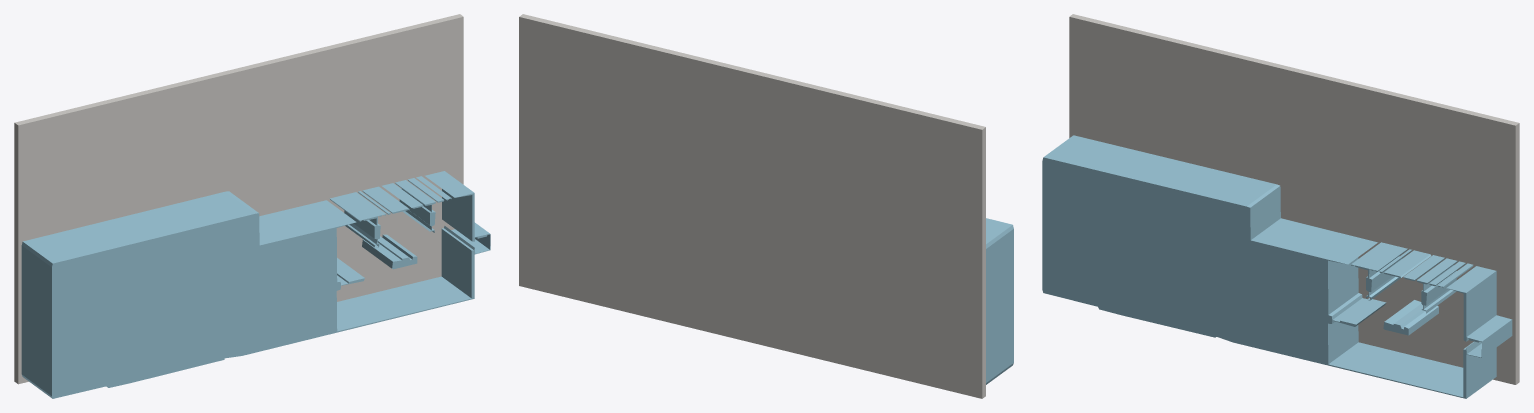
The picture shows the model from 3 angles, left to right: view 1: azimuth 30°, elevation 25°; view 2: azimuth 150°, elevation 25°; view 3: azimuth 330°, elevation 25°; orthographic projection. The views are drawn at different scales.
Parts seen in each view (by area): view 1: world; view 2: world; view 3: world.
Boxes of the visible parts, box(x1,y1,x2,y2) form: world: box(14, 14, 490, 398); world: box(519, 14, 1013, 398); world: box(1042, 14, 1519, 398).
Size of the model in its own units: 10.23 by 5.68 by 1.35.
